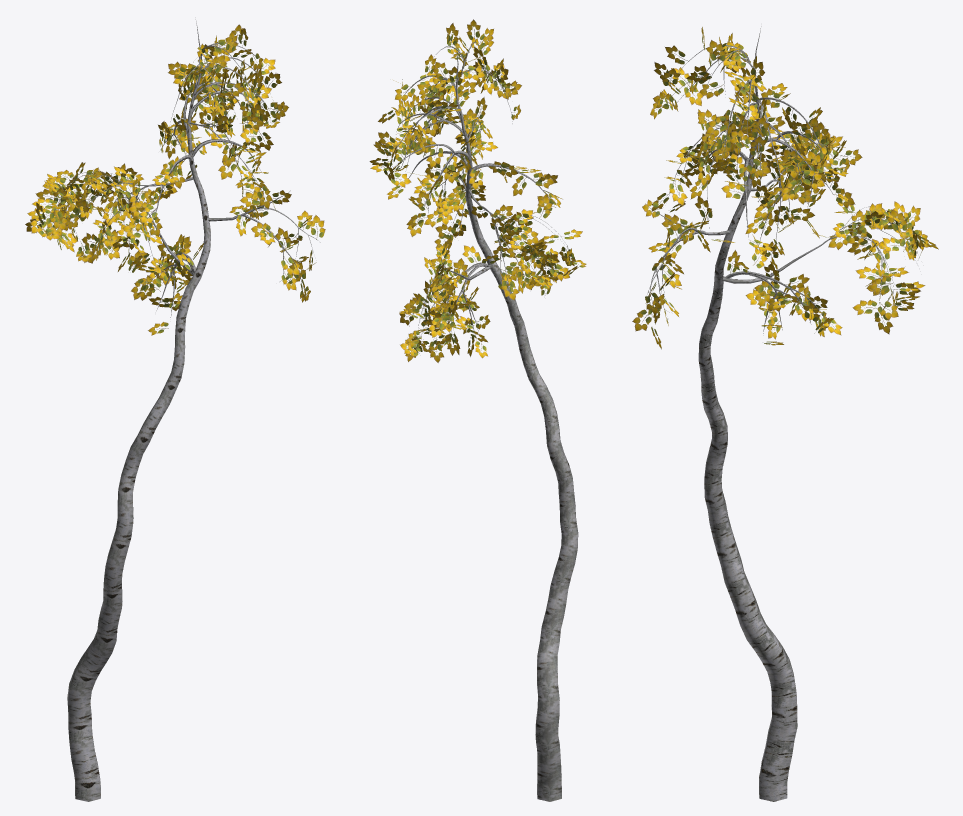
File: aspen2.glb
3 views of the same model, side by side, from view 1: azimuth 30°, elevation 25°; view 2: azimuth 150°, elevation 25°; view 3: azimuth 270°, elevation 25° (orthographic). The views are drawn at different scales.
Parts seen in each view (by area): view 1: Object_22, Object_20; view 2: Object_22, Object_20; view 3: Object_22, Object_20.
Part boxes in pixels (left/top/right/bottom): Object_22: left=25, top=24, right=325, bottom=335; Object_20: left=50, top=17, right=320, bottom=801; Object_22: left=369, top=19, right=586, bottom=362; Object_20: left=387, top=42, right=578, bottom=801; Object_22: left=632, top=27, right=938, bottom=349; Object_20: left=645, top=26, right=915, bottom=801.
Bounding box in the file's own units: 4.31 × 13 × 4.63.
Materials: 2 (2 with a texture image).
